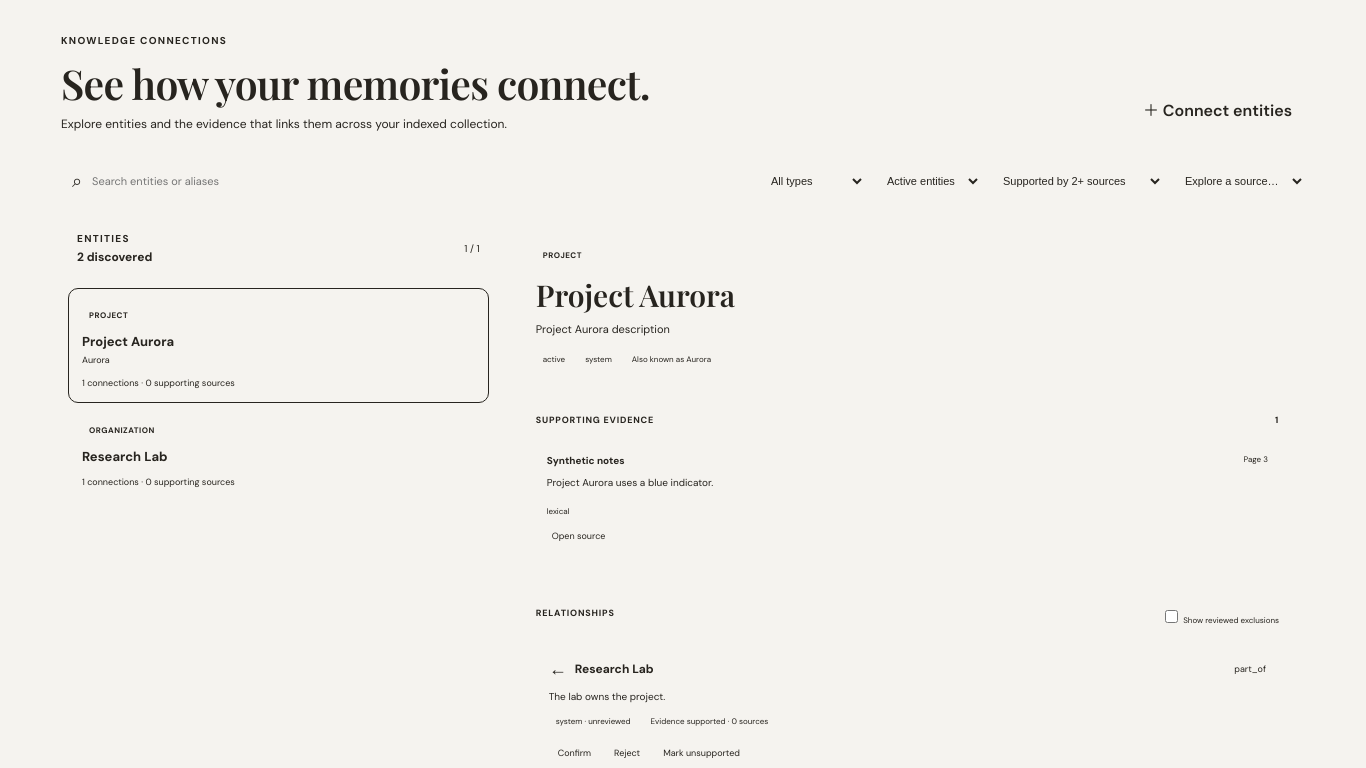
Test: ConnectionsView › exposes review controls for automatic relationships and refreshes status
The image size is (1366, 768).
Check: the heading "Project Aurora" is shown, box x1=536 y1=275 x2=735 y2=315
Click the button "Confirm" at (574, 752), box x1=549 y1=740 x2=600 y2=766
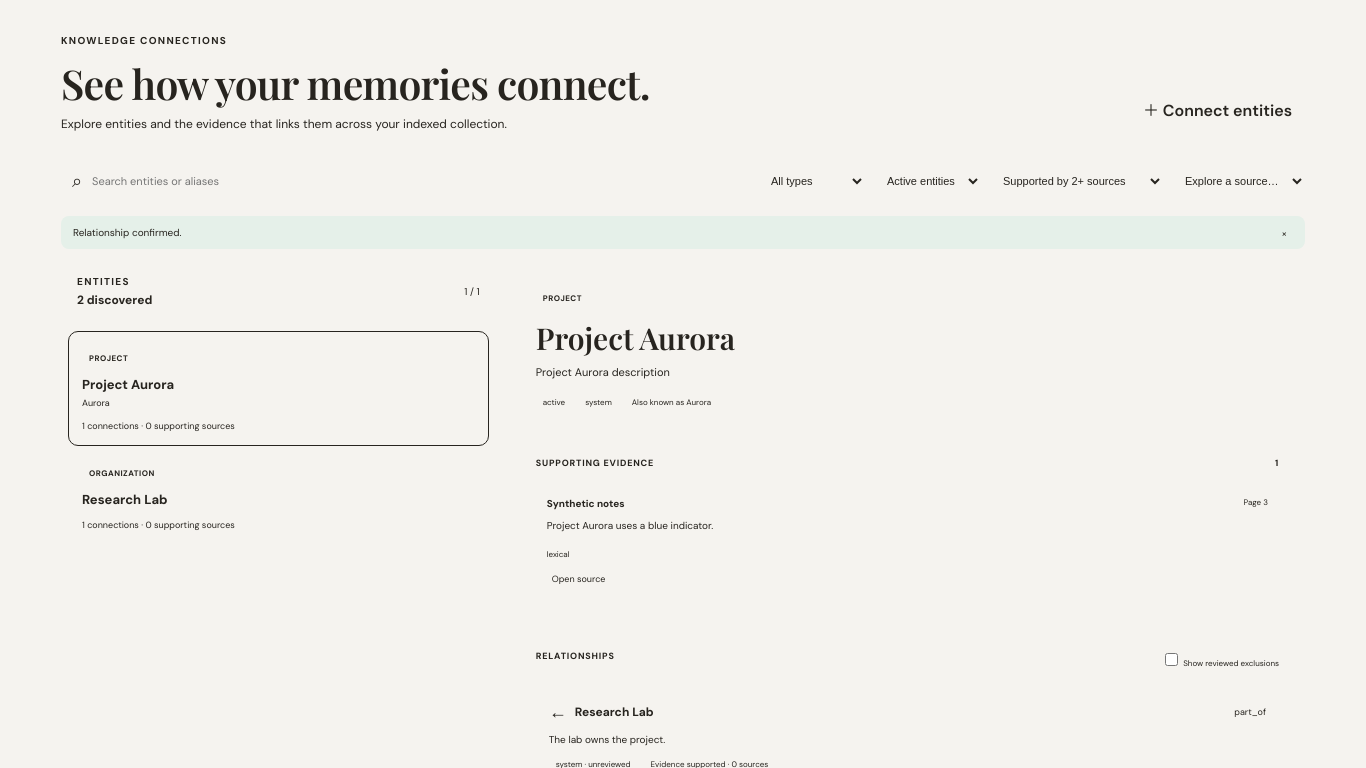
Check: the text "Relationship confirmed." is shown, box x1=73 y1=226 x2=182 y2=239
